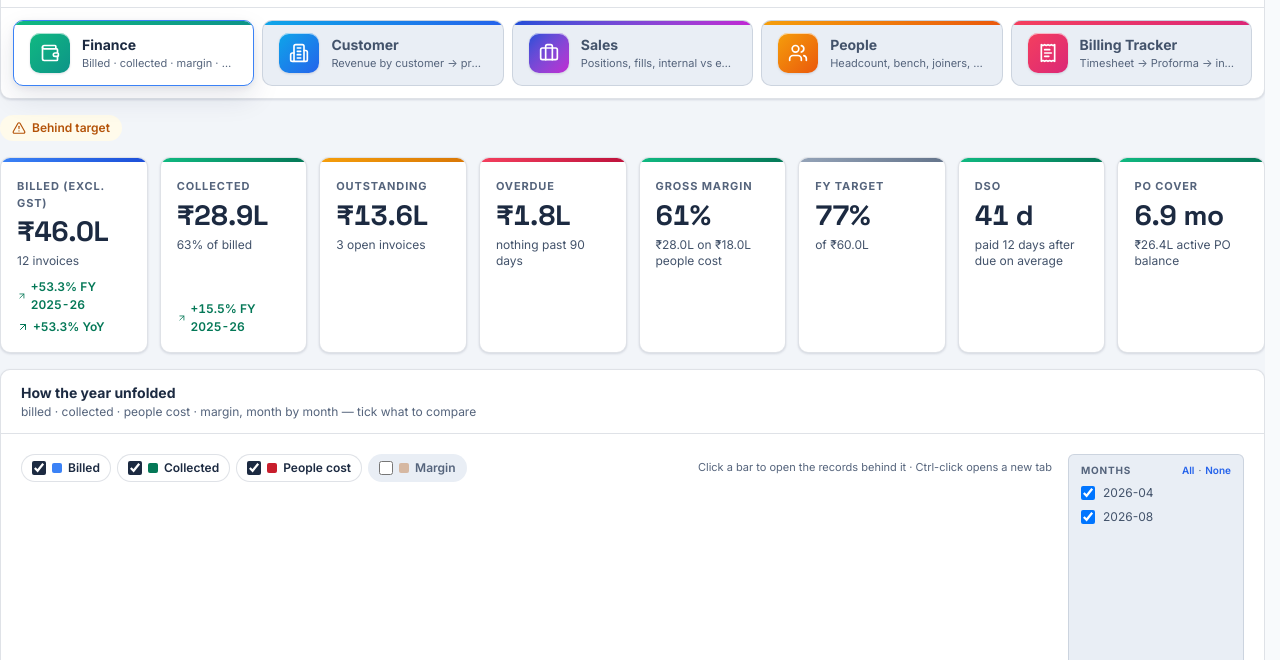
Scenario: CEO dashboard › reads the People tab in the same order — unfolded → dials → four bar charts → names
This screenshot has width=1280, height=660.
Click the tab "People Headcount, bench, joiners, exits". click: (882, 53)
box: top-left (761, 20), bottom-right (1003, 86)
(page scrolled)
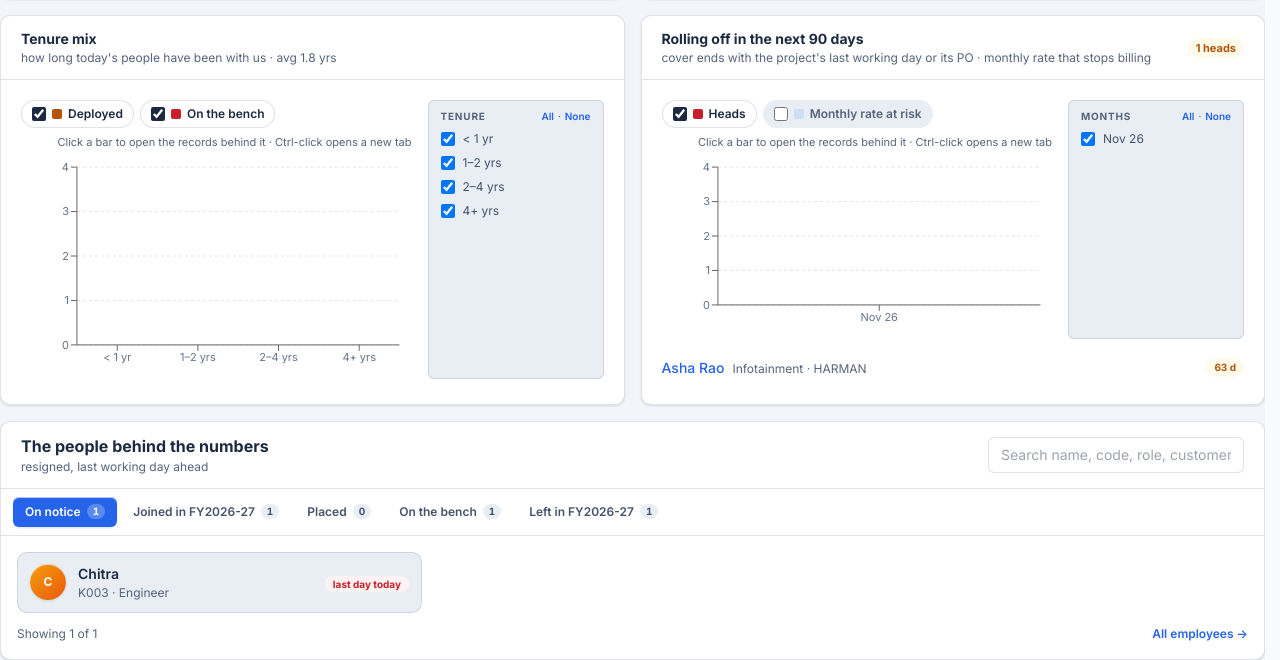
Result: the number of links "Chitra" is 1 at top-left (78, 565), bottom-right (119, 582)
Click the tab "On the bench 1". click: (450, 512)
box: top-left (387, 497), bottom-right (513, 527)
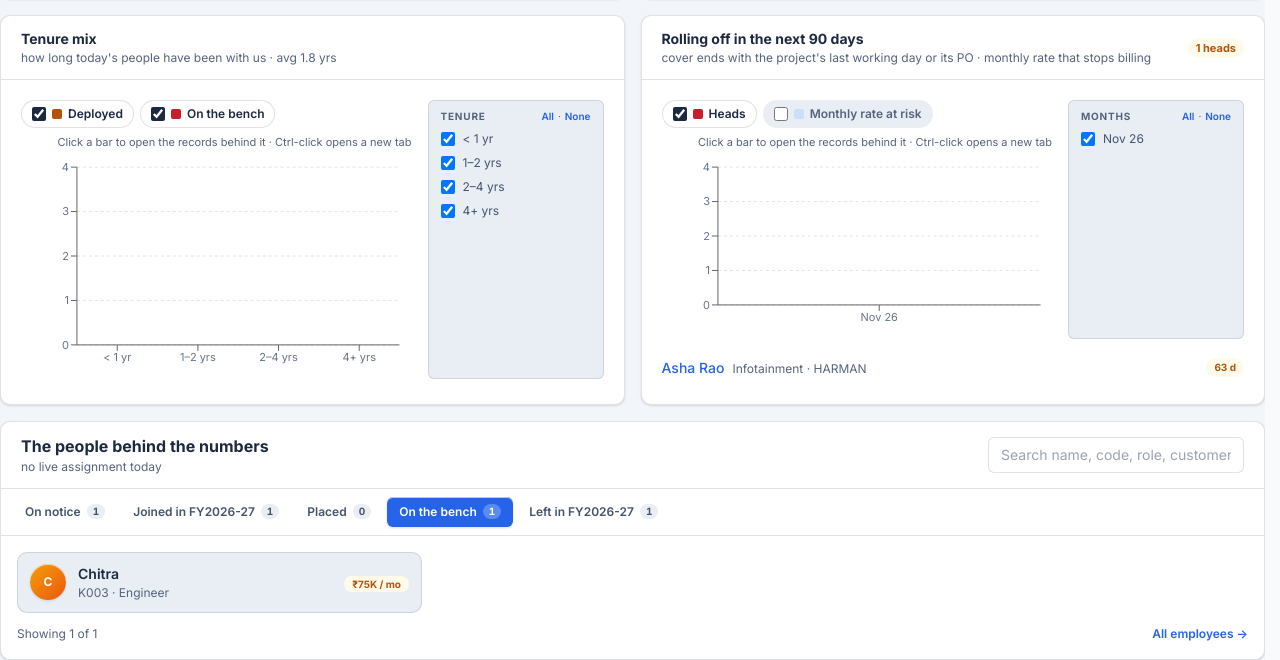
Result: the link "Chitra" is shown at top-left (78, 565), bottom-right (119, 582)
Type "zzz" into the field named "Search people". click: (1116, 455)
box: top-left (988, 437), bottom-right (1244, 473)
(page scrolled)
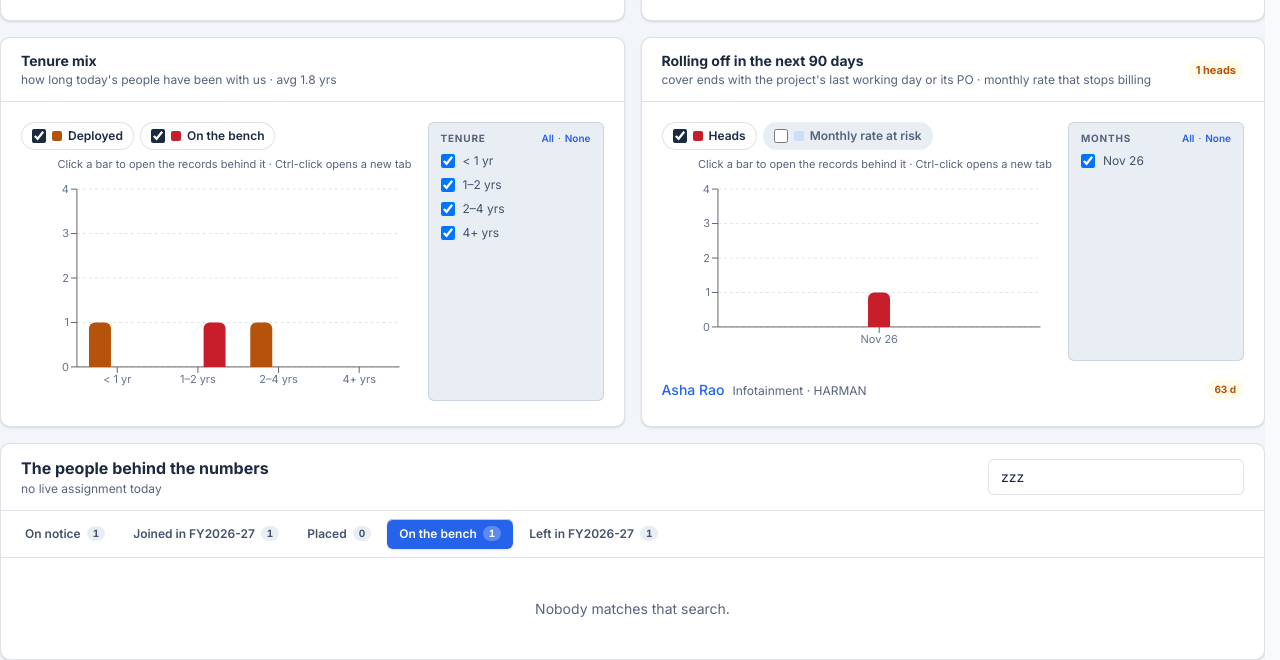
Result: the number of checkboxes labelled "On the bench" is 3
Result: the link "Asha Rao" is shown at top-left (662, 381), bottom-right (724, 398)
Result: the text "Nobody matches that search." is shown at top-left (535, 600), bottom-right (730, 617)
